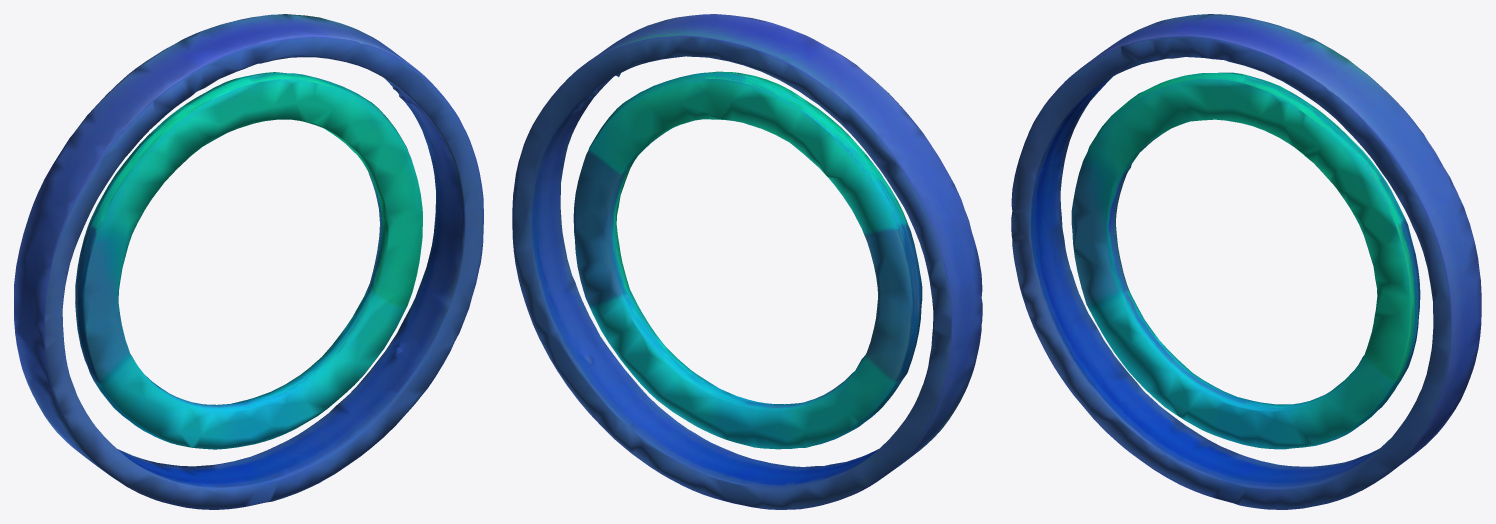
The model's file is loading.fbx.
3 views of the same model, side by side, from view 1: azimuth 30°, elevation 25°; view 2: azimuth 150°, elevation 25°; view 3: azimuth 330°, elevation 25° (orthographic).
Parts seen in each view (by area): view 1: input; view 2: input; view 3: input.
Part boxes in pixels (bbox=[...]): input: bbox=[14, 14, 483, 509]; input: bbox=[512, 14, 982, 509]; input: bbox=[1011, 14, 1481, 509].
Bounding box in the file's own units: 199 × 199 × 24.11.
1 material, 1 textured.
